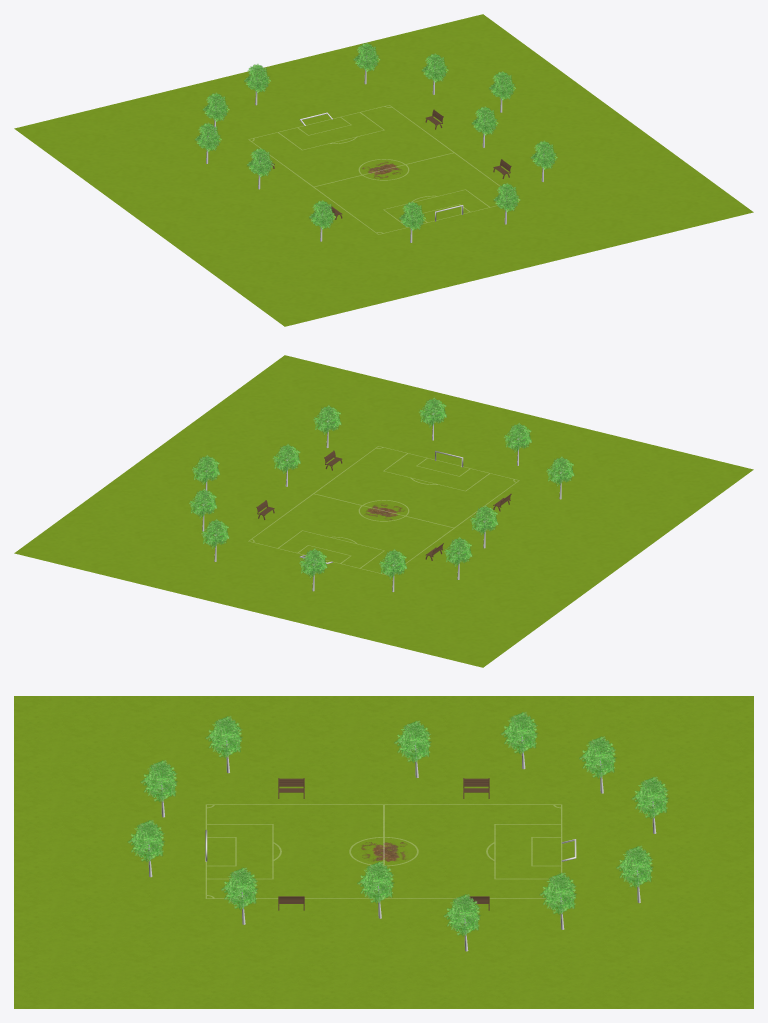
File: field1.glb
3 views of the same model, one above another, from view 1: azimuth 30°, elevation 25°; view 2: azimuth 150°, elevation 25°; view 3: azimuth 270°, elevation 25° (orthographic). The views are drawn at different scales.
Visible parts, largest first — view 1: Plane, leaves, leaves.005, leaves.006, leaves.003, leaves.004, leaves.001, leaves.002, leaves.008, leaves.011, leaves.009, leaves.010 (+1 smaller); view 2: Plane, leaves.010, leaves.001, leaves.009, leaves.011, leaves.002, leaves, leaves.006, leaves.008, leaves.007, leaves.003, leaves.005 (+1 smaller); view 3: Plane, Lines, leaves.001, leaves.005, leaves.008, leaves.004, leaves.010, leaves.009, leaves.002, leaves.006, leaves.011, leaves.003 (+3 smaller).
Boxes of the visible parts, x1,y1,x2,y2 form: Plane: (14, 14, 753, 326); leaves: (246, 148, 273, 177); leaves.005: (202, 92, 229, 121); leaves.006: (194, 122, 221, 151); leaves.003: (530, 140, 557, 169); leaves.004: (421, 53, 448, 82); leaves.001: (471, 106, 498, 135); leaves.002: (309, 200, 335, 229); leaves.008: (244, 64, 270, 93); leaves.011: (493, 183, 520, 212); leaves.009: (489, 71, 515, 100); leaves.010: (399, 201, 425, 230); Plane: (14, 355, 753, 667); leaves.010: (503, 422, 531, 452); leaves.001: (272, 444, 300, 473); leaves.009: (192, 455, 219, 484); leaves.011: (419, 397, 446, 427); leaves.002: (546, 456, 574, 486); leaves: (470, 505, 498, 535); leaves.006: (444, 537, 472, 566); leaves.008: (299, 548, 327, 578); leaves.007: (201, 519, 229, 548); leaves.003: (313, 405, 341, 434); leaves.005: (379, 549, 407, 578); Plane: (14, 696, 753, 1008); Lines: (206, 804, 561, 898); leaves.001: (357, 861, 394, 903); leaves.005: (579, 736, 616, 778); leaves.008: (631, 776, 668, 818); leaves.004: (539, 872, 576, 914); leaves.010: (140, 760, 177, 802); leaves.009: (443, 894, 480, 935); leaves.002: (205, 716, 242, 757); leaves.006: (501, 712, 537, 754); leaves.011: (127, 820, 164, 862); leaves.003: (221, 867, 257, 909).
Size of the model in its own units: 200 by 17.14 by 200.
Materials: 7 (5 with a texture image).
